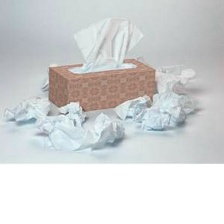book: (43, 52, 160, 116)
tissue: (66, 11, 149, 75), (27, 108, 128, 155), (108, 86, 206, 134), (130, 51, 200, 99), (0, 91, 54, 129), (53, 98, 91, 129), (37, 59, 61, 94)
